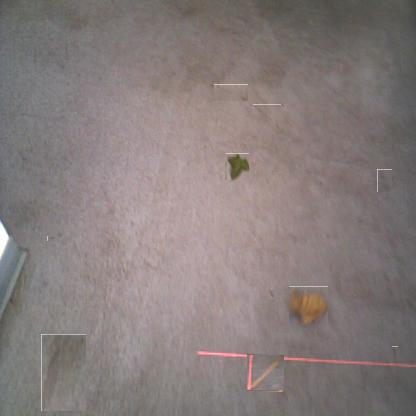dirty: (288, 286, 328, 325), (247, 355, 284, 392), (226, 153, 250, 180)
mark: (41, 334, 86, 411), (253, 104, 281, 131), (214, 84, 248, 101), (375, 171, 394, 190), (267, 289, 275, 299), (392, 346, 398, 359), (48, 235, 55, 242)
